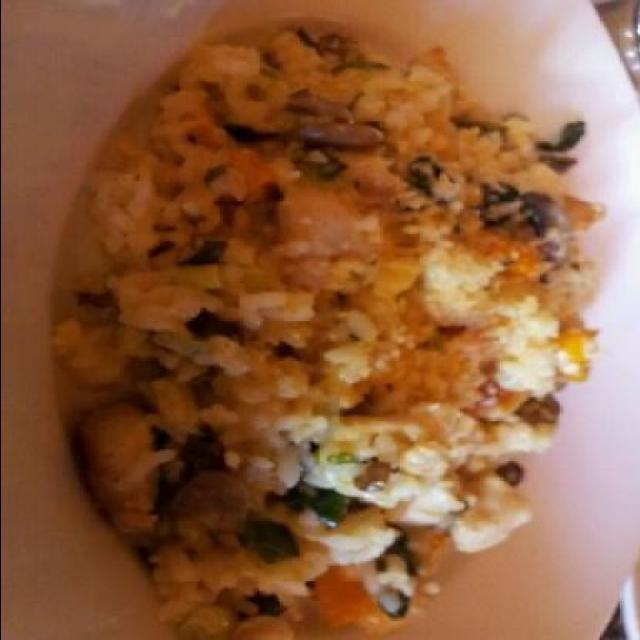Risotto: (87, 41, 610, 613)
